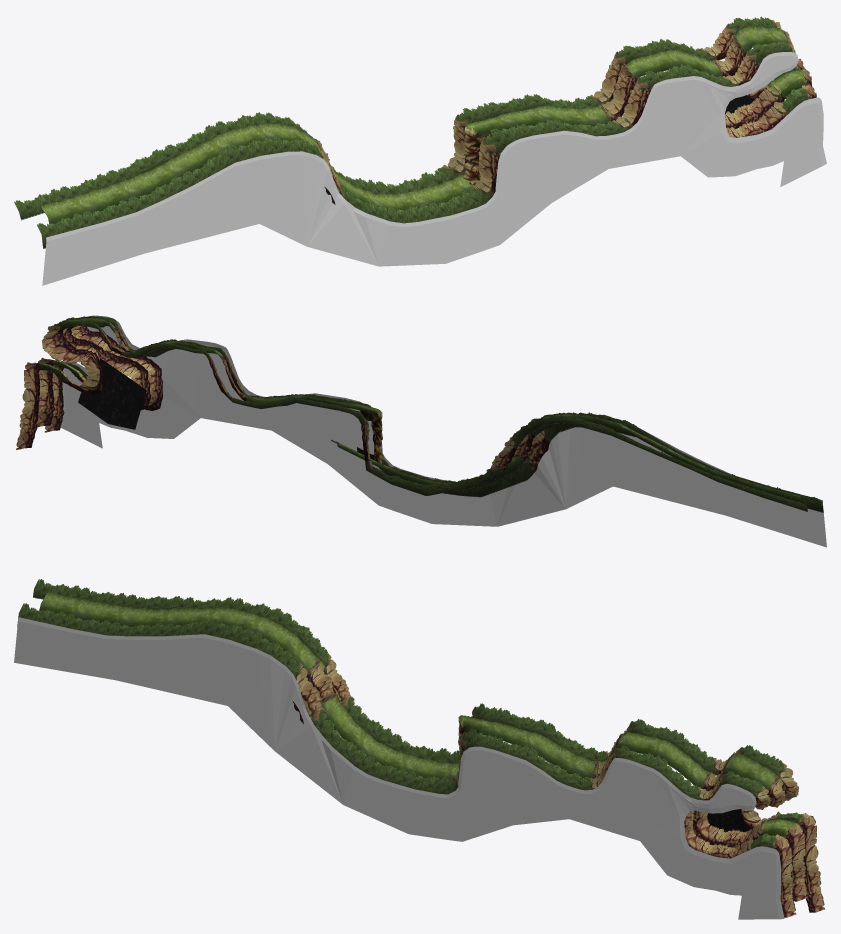
File: Level 8 Pt 1.FBX
3 renders of one model, top to bottom at view 1: azimuth 30°, elevation 25°; view 2: azimuth 150°, elevation 25°; view 3: azimuth 330°, elevation 25°, orthographic.
Parts seen in each view (by area): view 1: Black Pt 1 Level 8, Grass Pt 1, Grass Pt 1 FG, Grass Pt 1 BG, Cliff Pt 1; view 2: Black Pt 1 Level 8, Grass Pt 1 BG, Grass Pt 1, Grass Pt 1 FG, Rock BG Pt1, Cliff Pt 1; view 3: Black Pt 1 Level 8, Grass Pt 1, Grass Pt 1 FG, Grass Pt 1 BG, Rock BG Pt1.
Boxes of the visible parts, box(x1,y1,x2,y2) form: Black Pt 1 Level 8: box(42, 52, 826, 285); Grass Pt 1: box(41, 26, 812, 224); Grass Pt 1 FG: box(37, 41, 816, 248); Grass Pt 1 BG: box(14, 16, 804, 220); Cliff Pt 1: box(463, 118, 494, 186); Black Pt 1 Level 8: box(60, 315, 826, 547); Grass Pt 1 BG: box(16, 321, 807, 511); Grass Pt 1: box(36, 316, 801, 501); Grass Pt 1 FG: box(44, 316, 823, 512); Rock BG Pt1: box(78, 358, 146, 429); Cliff Pt 1: box(357, 403, 382, 463); Black Pt 1 Level 8: box(14, 617, 784, 919); Grass Pt 1: box(39, 592, 808, 901); Grass Pt 1 FG: box(17, 603, 796, 917); Grass Pt 1 BG: box(33, 579, 824, 912); Rock BG Pt1: box(707, 809, 752, 832).
Size of what is drawn, in the model's own units: 15933 by 990 by 3420.
4 materials, 4 textured.
